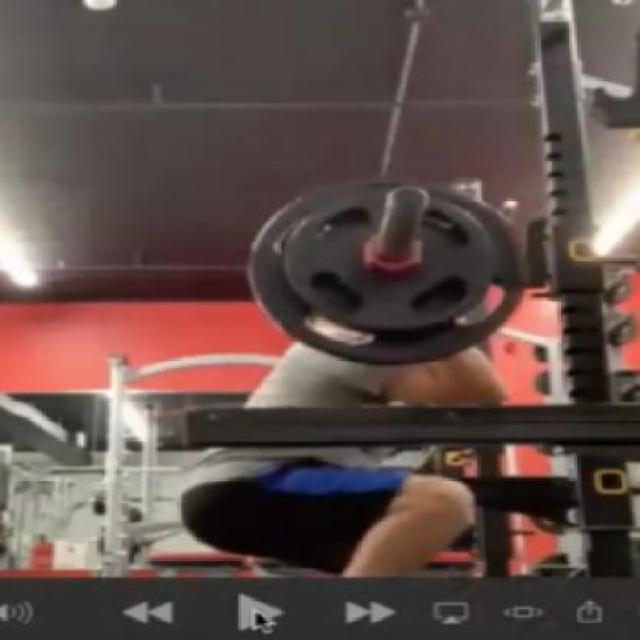barbell: (242, 174, 529, 368)
